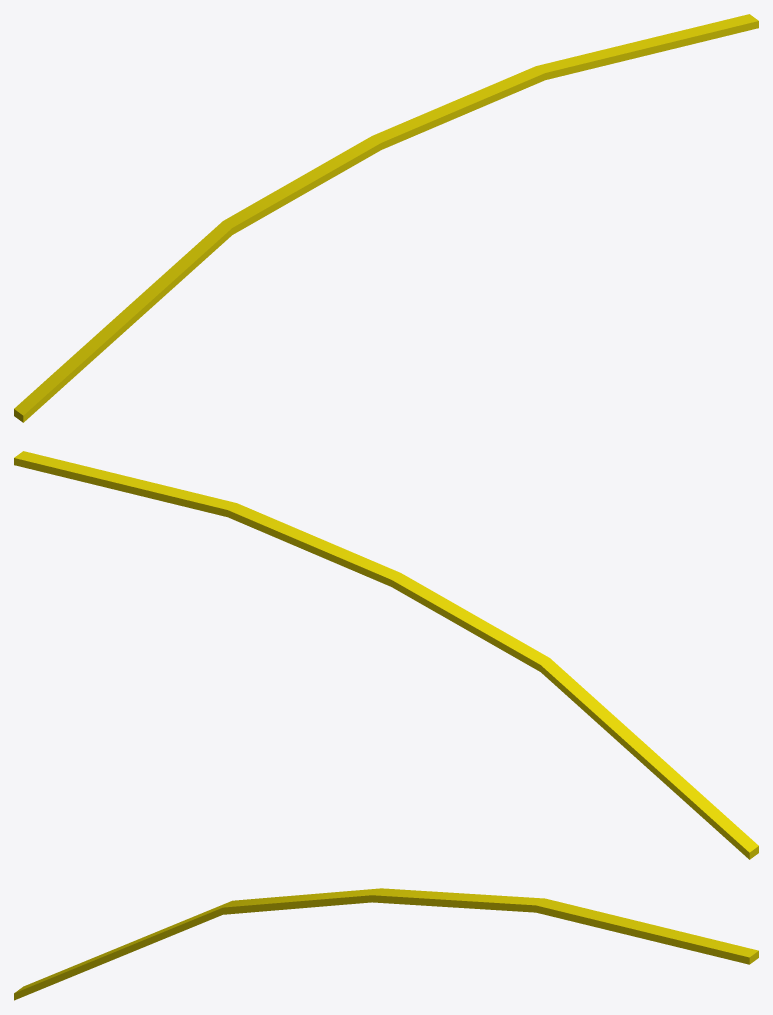
Rendered from Mdl_Vagon_Barras4.fbx.
3 views of the same model, one above another, from view 1: azimuth 30°, elevation 25°; view 2: azimuth 150°, elevation 25°; view 3: azimuth 330°, elevation 25° (orthographic).
Visible parts, largest first — view 1: Mdl_Vagon_Barras4; view 2: Mdl_Vagon_Barras4; view 3: Mdl_Vagon_Barras4.
Part boxes in pixels (x1,y1,x2,y2): Mdl_Vagon_Barras4: (14, 14, 758, 422); Mdl_Vagon_Barras4: (14, 451, 758, 859); Mdl_Vagon_Barras4: (14, 888, 758, 1000).
Bounding box in the file's own units: 12.33 × 3.57 × 0.2735.
